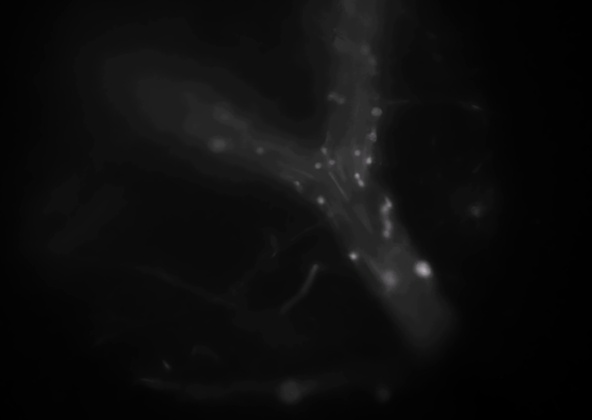cell: (417, 262, 431, 276), (370, 106, 384, 120), (350, 147, 364, 161), (363, 153, 377, 167), (317, 142, 331, 156), (310, 159, 324, 173), (323, 156, 337, 170), (325, 88, 339, 102), (350, 169, 364, 183), (332, 92, 346, 106), (353, 177, 367, 191), (345, 250, 359, 264), (382, 271, 396, 285), (380, 227, 394, 241), (381, 197, 395, 211), (381, 218, 395, 232), (378, 202, 392, 216), (315, 194, 329, 208), (291, 175, 305, 189), (252, 146, 266, 160), (209, 138, 223, 152), (358, 43, 372, 57), (365, 54, 379, 68), (331, 40, 345, 54), (365, 128, 379, 142), (367, 123, 381, 137)
